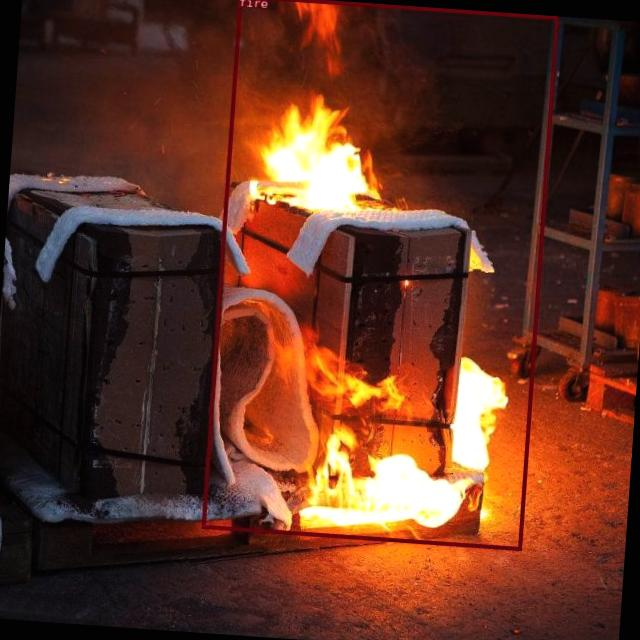fire: (200, 0, 557, 549)
